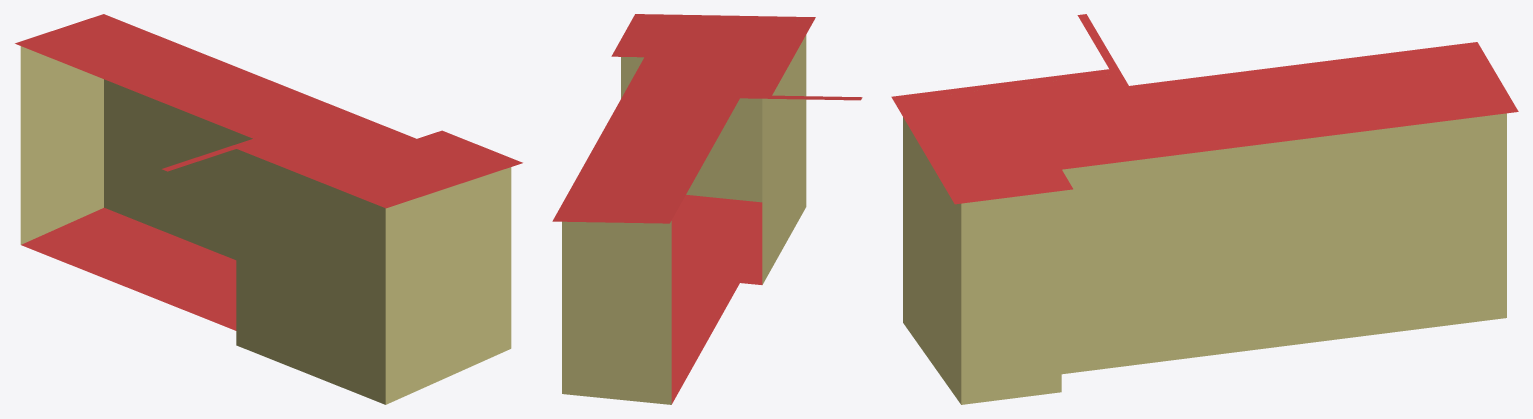
The picture shows the model from 3 angles, left to right: view 1: azimuth 30°, elevation 25°; view 2: azimuth 150°, elevation 25°; view 3: azimuth 270°, elevation 25°; orthographic projection. The views are drawn at different scales.
Size of the model in its own units: 10.13 by 16.42 by 6.71.
